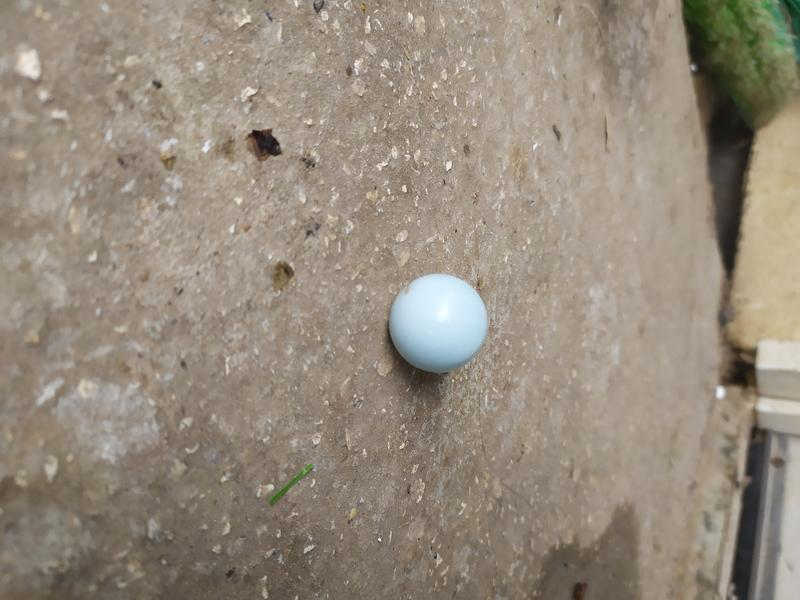Warning: (385, 270, 492, 377)
